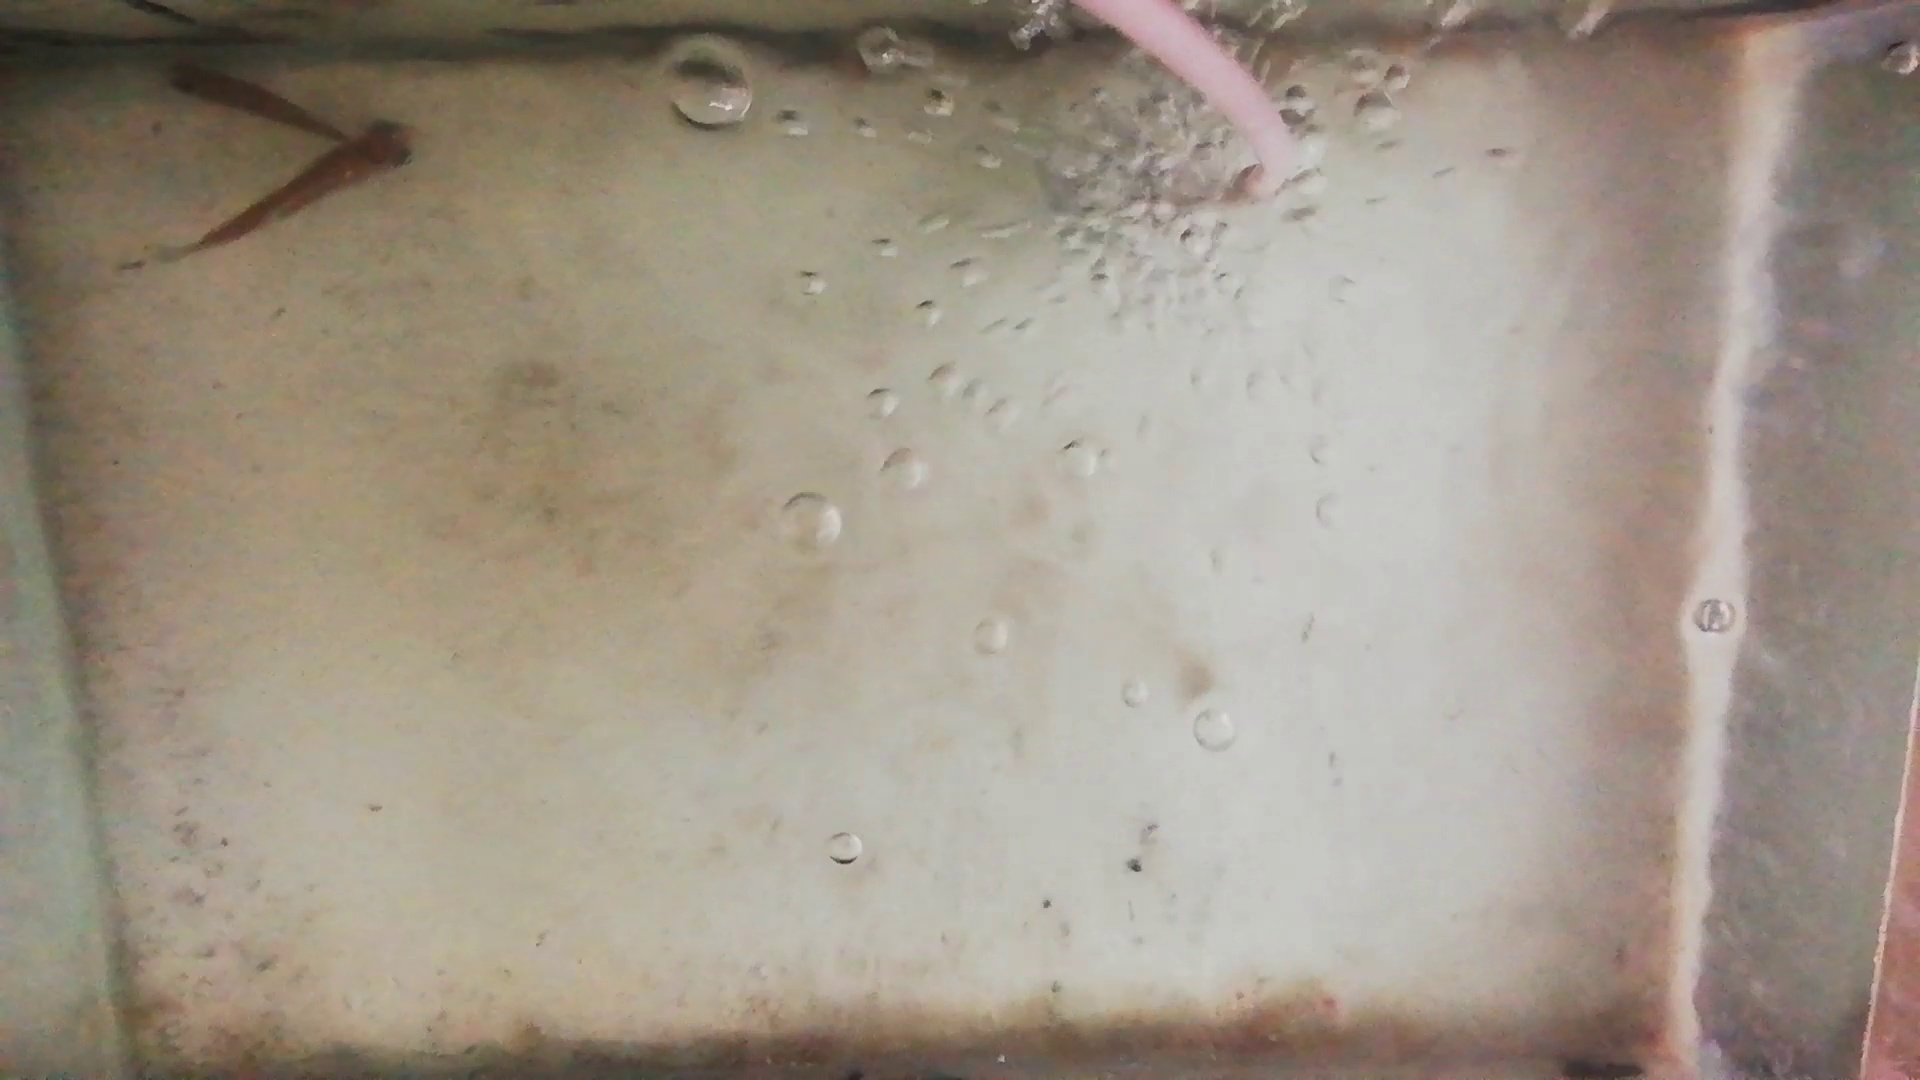fish: (203, 123, 415, 247), (156, 57, 345, 144)
